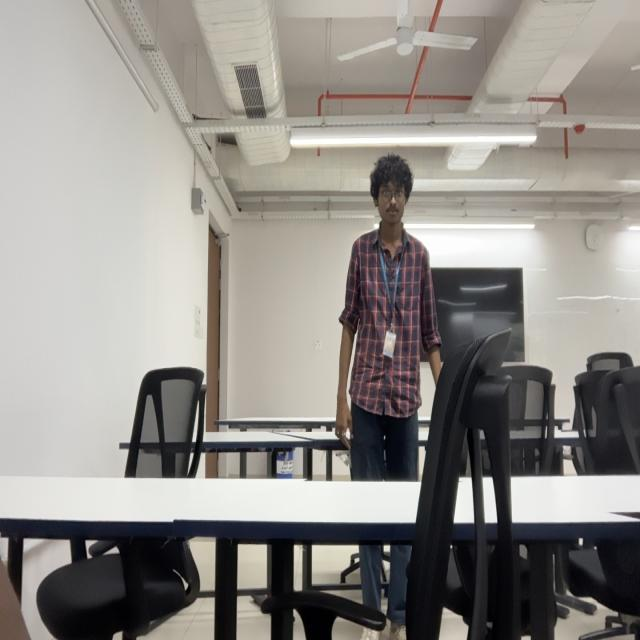darshan: (366, 152, 416, 229)
